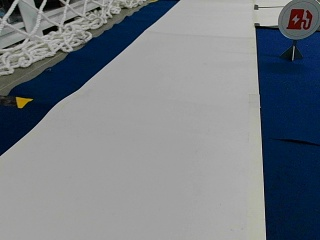battery: (277, 0, 319, 40)
